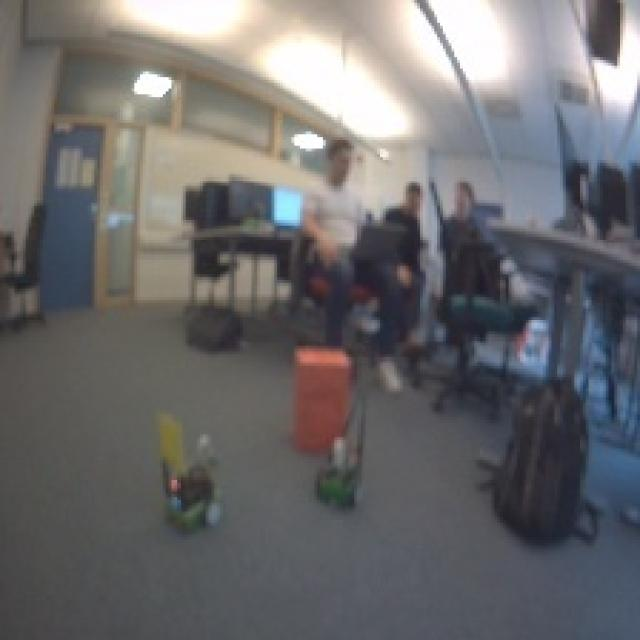robot: (156, 456, 228, 535), (309, 454, 366, 516)
target: (288, 340, 352, 451)
